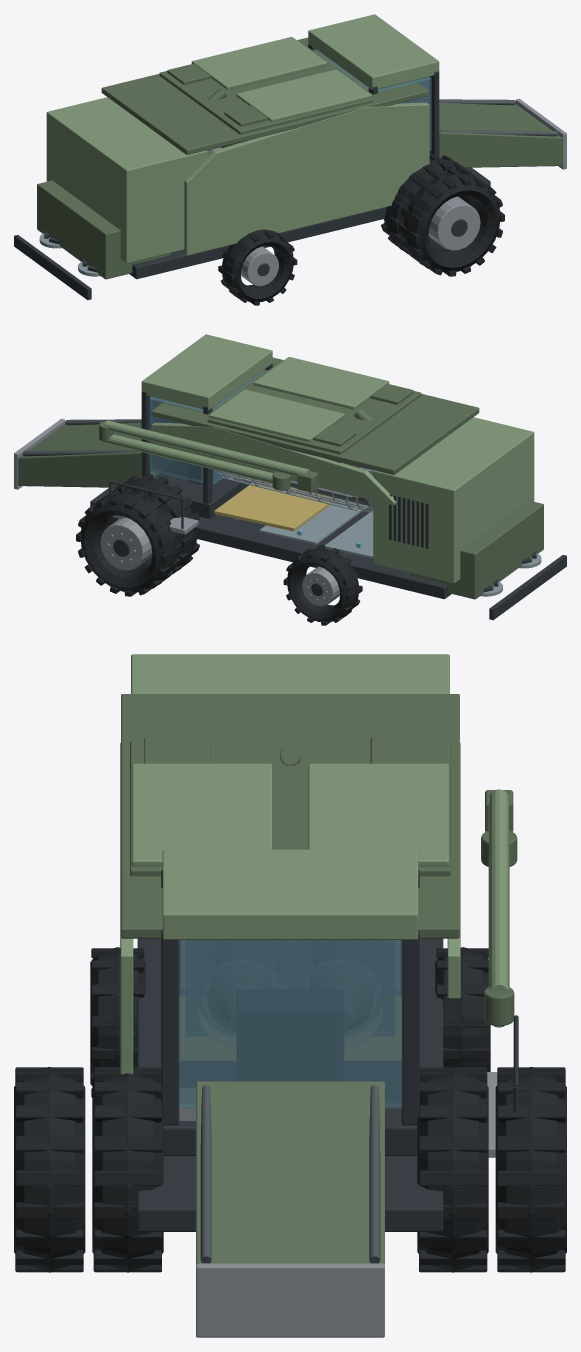
The model's file is new-holland-cr11-structural-study.glb.
The picture shows the model from 3 angles, top to bottom: view 1: azimuth 30°, elevation 25°; view 2: azimuth 150°, elevation 25°; view 3: azimuth 270°, elevation 25°; orthographic projection. The views are drawn at different scales.
Parts seen in each view (by area): view 1: Separator_Right_Panel, Rear_Engine_House, Separator_Top, Feeder_Casing, Cab_Roof, Integrated_Disc_Chopper_House, Front_R_Outer_Tire, Grain_Tank_Cover_L, Grain_Tank_Cover_R, Grain_Tank_Lower, CR11_Main_Frame, Rear_R_Tire (+11 smaller); view 2: Rear_Engine_House, Separator_Top, Cab_Roof, Feeder_Casing, CR11_Main_Frame, Separator_Left_Upper_Panel, Integrated_Disc_Chopper_House, Front_L_Outer_Tire, Grain_Tank_Cover_R, Grain_Tank_Cover_L, Grain_Tank_Lower, TwinClean_Grainpan (+20 smaller); view 3: Cab_Front_Glass, Feeder_Casing, Cab_Roof, Separator_Top, Feeder_Coupler_Face, CR11_Main_Frame, Grain_Tank_Cover_L, Grain_Tank_Cover_R, Rear_Engine_House, Operator_Seat, Grain_Tank_Lower, Front_R_Outer_Tire (+35 smaller).
Boxes of the visible parts, x1,y1,x2,y2 form: Separator_Right_Panel: [184, 102, 429, 255]; Rear_Engine_House: [46, 97, 207, 263]; Separator_Top: [101, 37, 429, 154]; Feeder_Casing: [439, 102, 562, 167]; Cab_Roof: [308, 14, 439, 89]; Integrated_Disc_Chopper_House: [37, 180, 169, 279]; Front_R_Outer_Tire: [403, 173, 500, 272]; Grain_Tank_Cover_L: [191, 37, 327, 89]; Grain_Tank_Cover_R: [236, 69, 371, 121]; Grain_Tank_Lower: [159, 65, 373, 147]; CR11_Main_Frame: [129, 167, 490, 279]; Rear_R_Tire: [222, 229, 293, 302]; Rear_Engine_House: [373, 417, 534, 583]; Separator_Top: [151, 357, 479, 474]; Cab_Roof: [141, 334, 272, 409]; Feeder_Casing: [18, 422, 175, 487]; CR11_Main_Frame: [90, 487, 451, 599]; Separator_Left_Upper_Panel: [151, 422, 396, 505]; Integrated_Disc_Chopper_House: [411, 500, 543, 599]; Front_L_Outer_Tire: [80, 493, 177, 592]; Grain_Tank_Cover_R: [253, 357, 389, 409]; Grain_Tank_Cover_L: [209, 389, 344, 441]; Grain_Tank_Lower: [207, 385, 421, 467]; TwinClean_Grainpan: [214, 483, 337, 531]; Cab_Front_Glass: [178, 940, 402, 1108]; Feeder_Casing: [196, 1081, 384, 1263]; Cab_Roof: [162, 849, 418, 939]; Separator_Top: [121, 694, 459, 938]; Feeder_Coupler_Face: [196, 1263, 384, 1337]; CR11_Main_Frame: [137, 938, 443, 1231]; Grain_Tank_Cover_L: [308, 763, 448, 866]; Grain_Tank_Cover_R: [132, 763, 272, 866]; Rear_Engine_House: [131, 654, 449, 693]; Operator_Seat: [237, 989, 343, 1080]; Grain_Tank_Lower: [130, 741, 450, 876]; Front_R_Outer_Tire: [14, 1067, 85, 1272].
Size of the model in its own units: 11.25 by 4.01 by 5.51.
